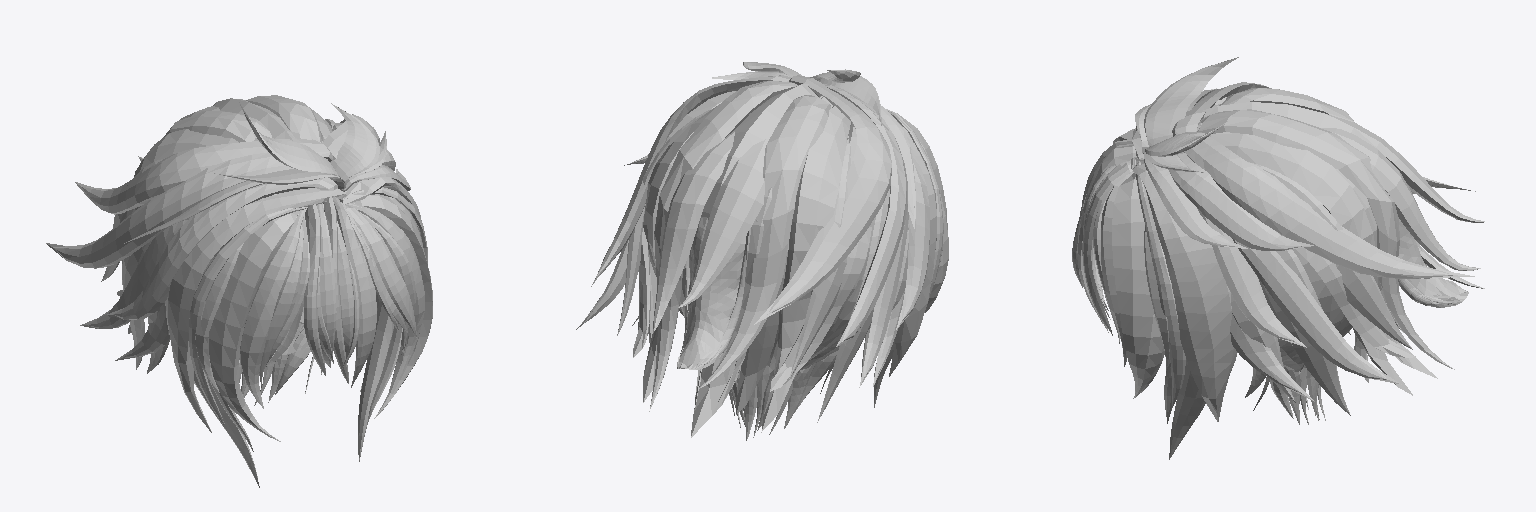
The model's file is outline.obj.
3 views of the same model, side by side, from view 1: azimuth 30°, elevation 25°; view 2: azimuth 150°, elevation 25°; view 3: azimuth 270°, elevation 25° (orthographic).
Size of the model in its own units: 34.62 by 42.83 by 44.71.